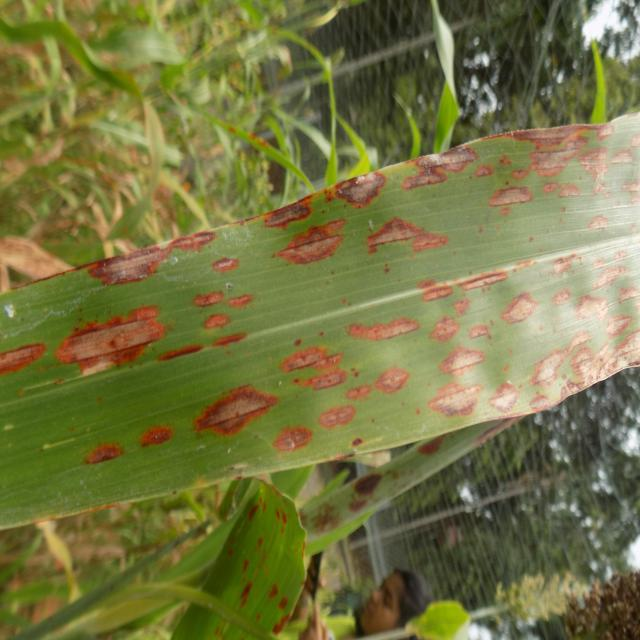millet_healthy: (427, 0, 460, 154)
millet_rust: (0, 156, 640, 468), (172, 480, 308, 640)
